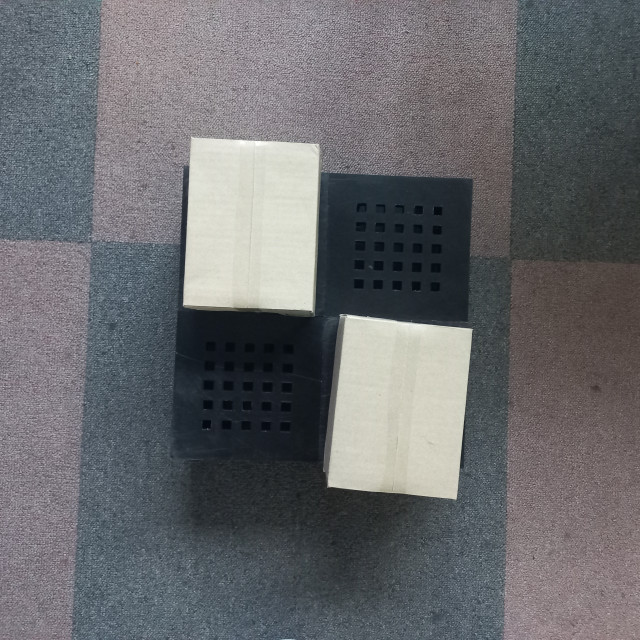box: (324, 312, 473, 504), (182, 134, 320, 315)
